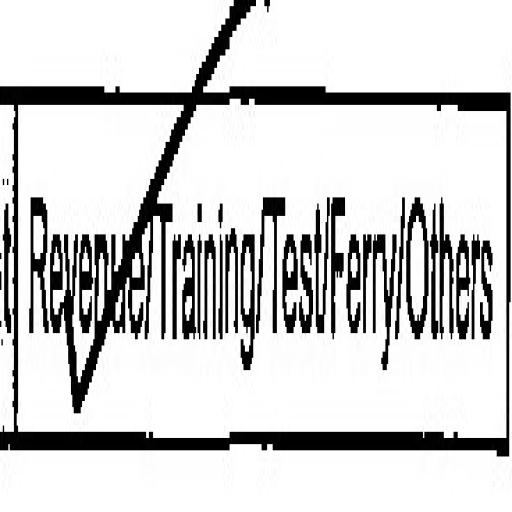check: (17, 0, 152, 512)
